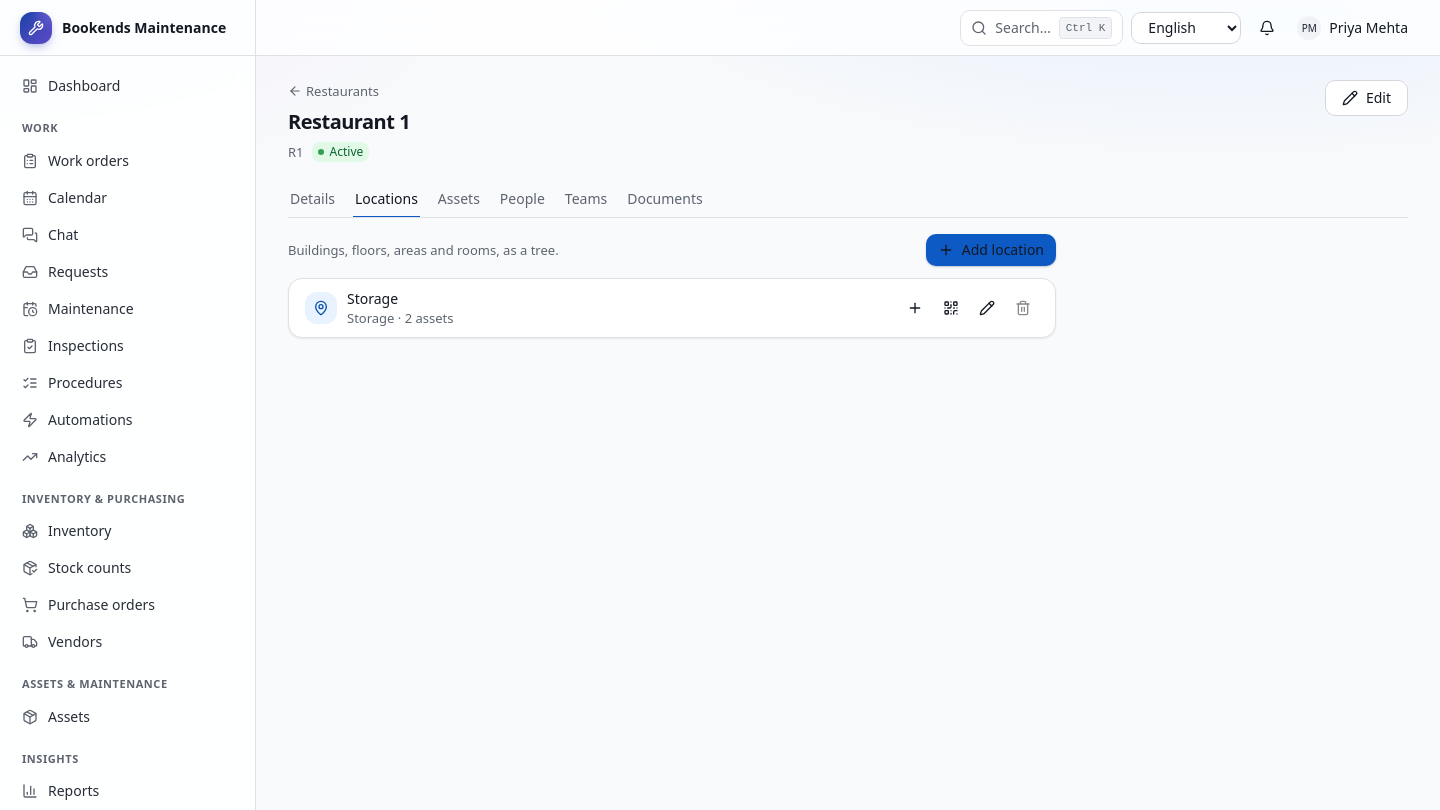
Test: restaurant page › locations: list with asset counts, archive blocked while in use, add a new one
This screenshot has width=1440, height=810.
Check: the text "Storage" is shown, box [347,289,398,308]
Check: the text "Storage · 2 assets" is shown, box [347,309,454,327]
Click the button "Add location" at (991, 250), box [926,234,1056,266]
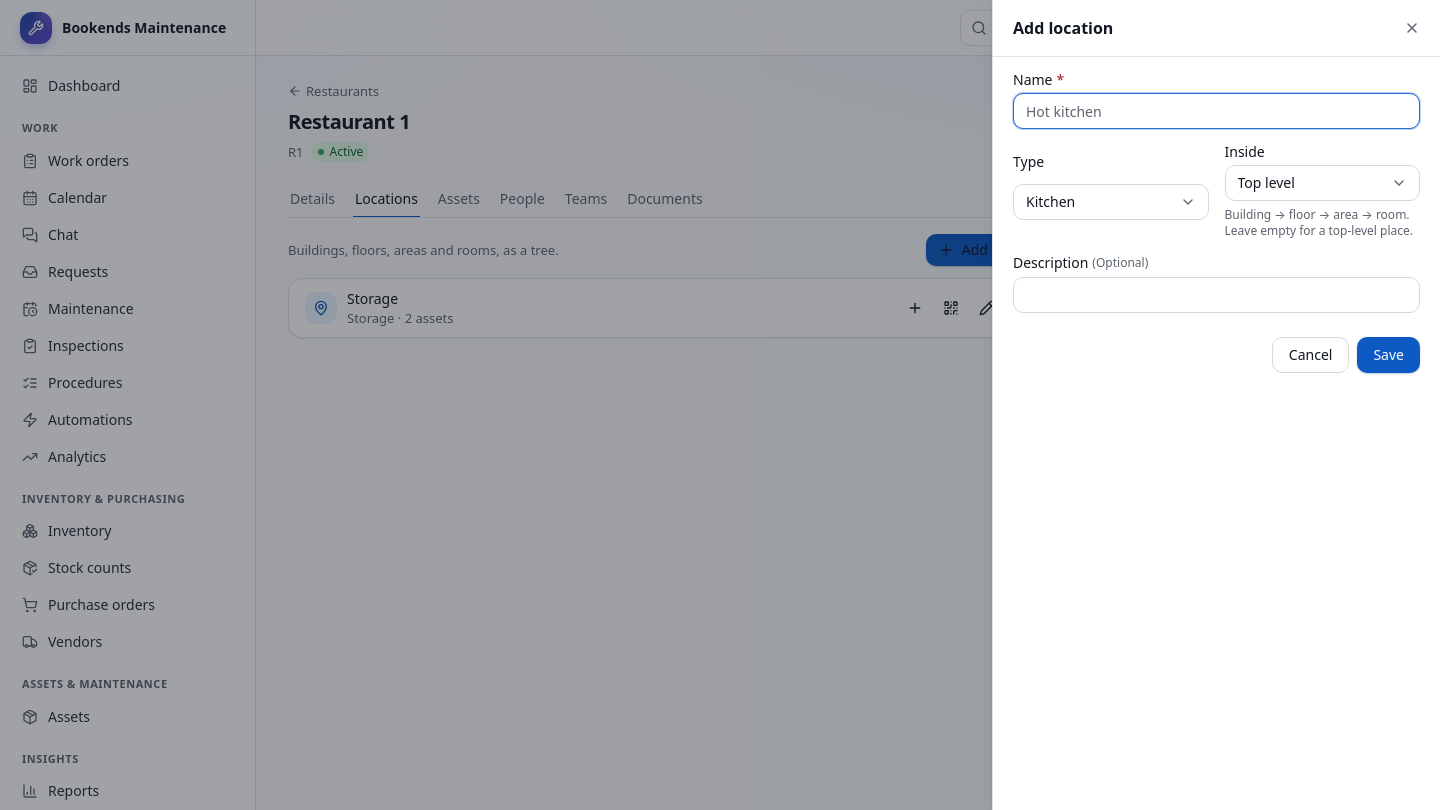
Type "Bar counter" into the field labelled "Name *" at (1216, 111), box [1013,93,1420,129]
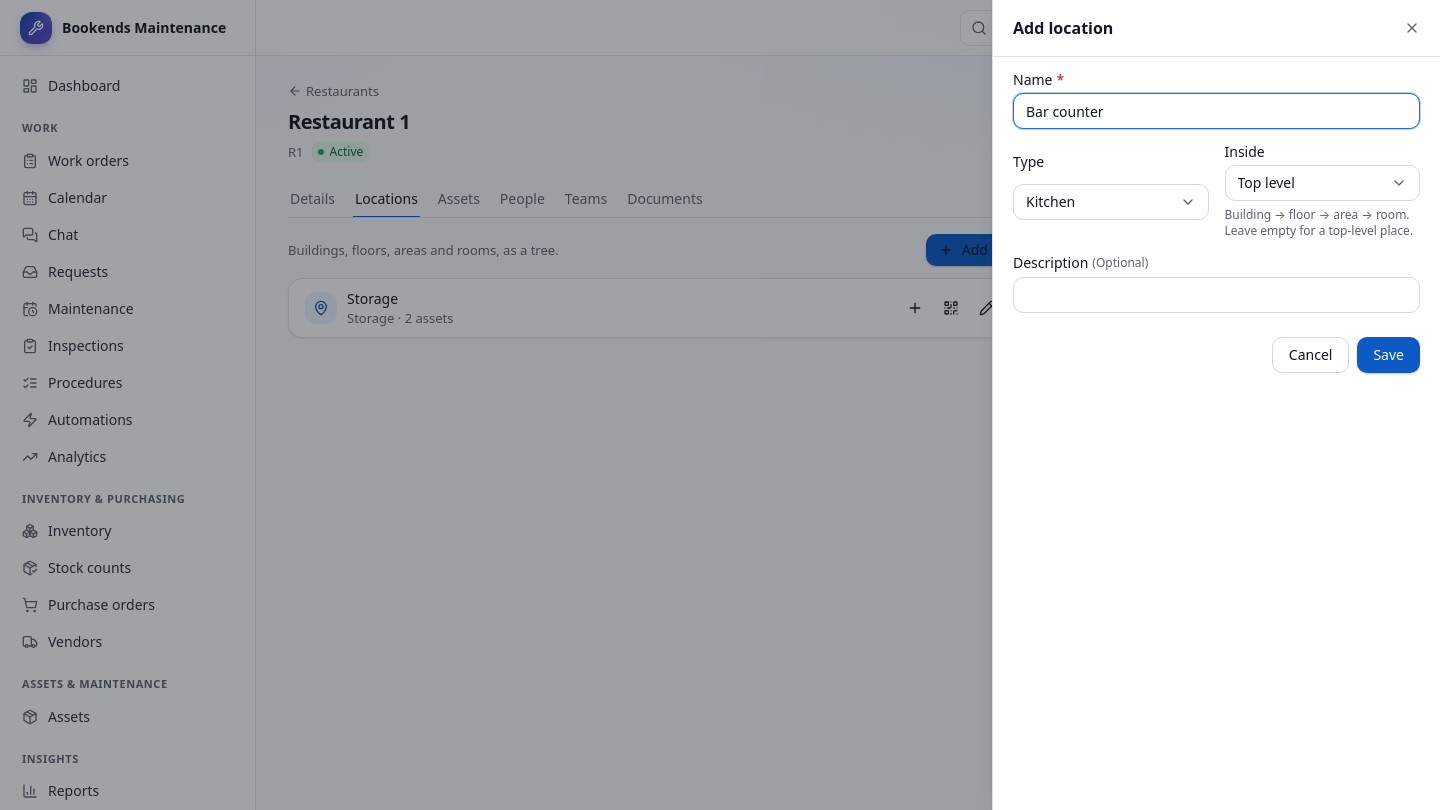
Click the dropdown named "Type" at (1111, 202), box [1013,184,1208,220]
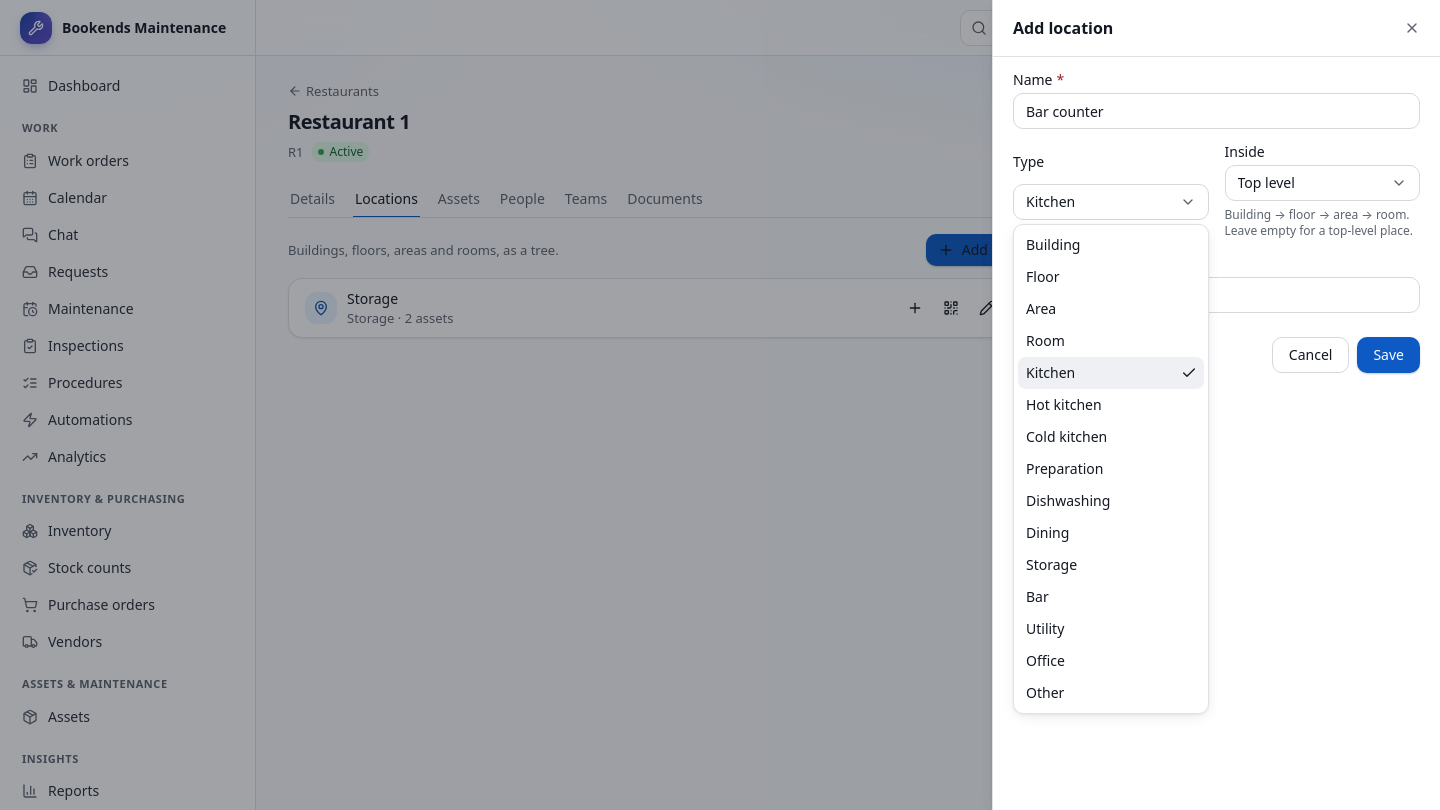
Click the option "Bar" at (1037, 596), box [1026,587,1049,606]
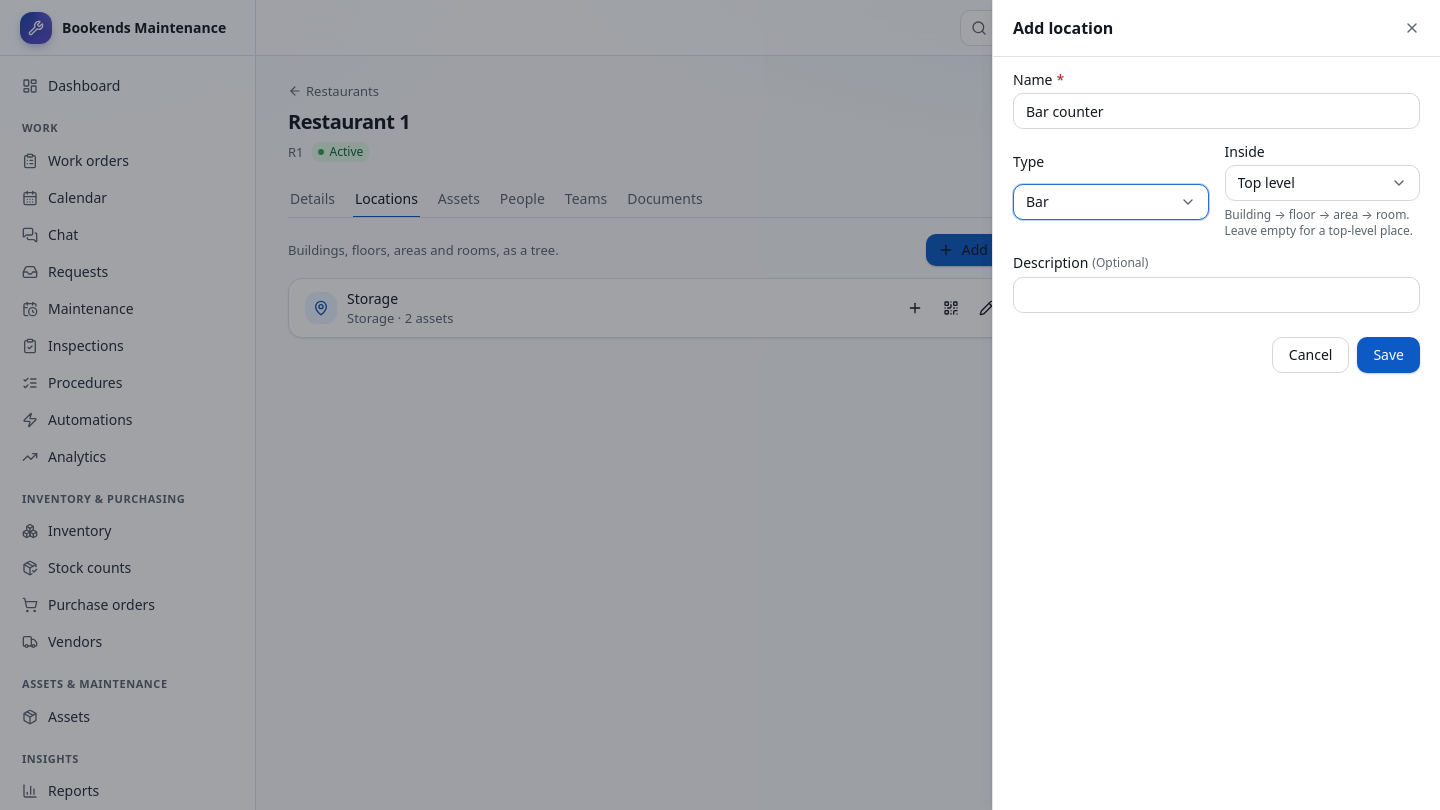
Click the button "Save" at (1389, 355), box [1357,337,1420,373]
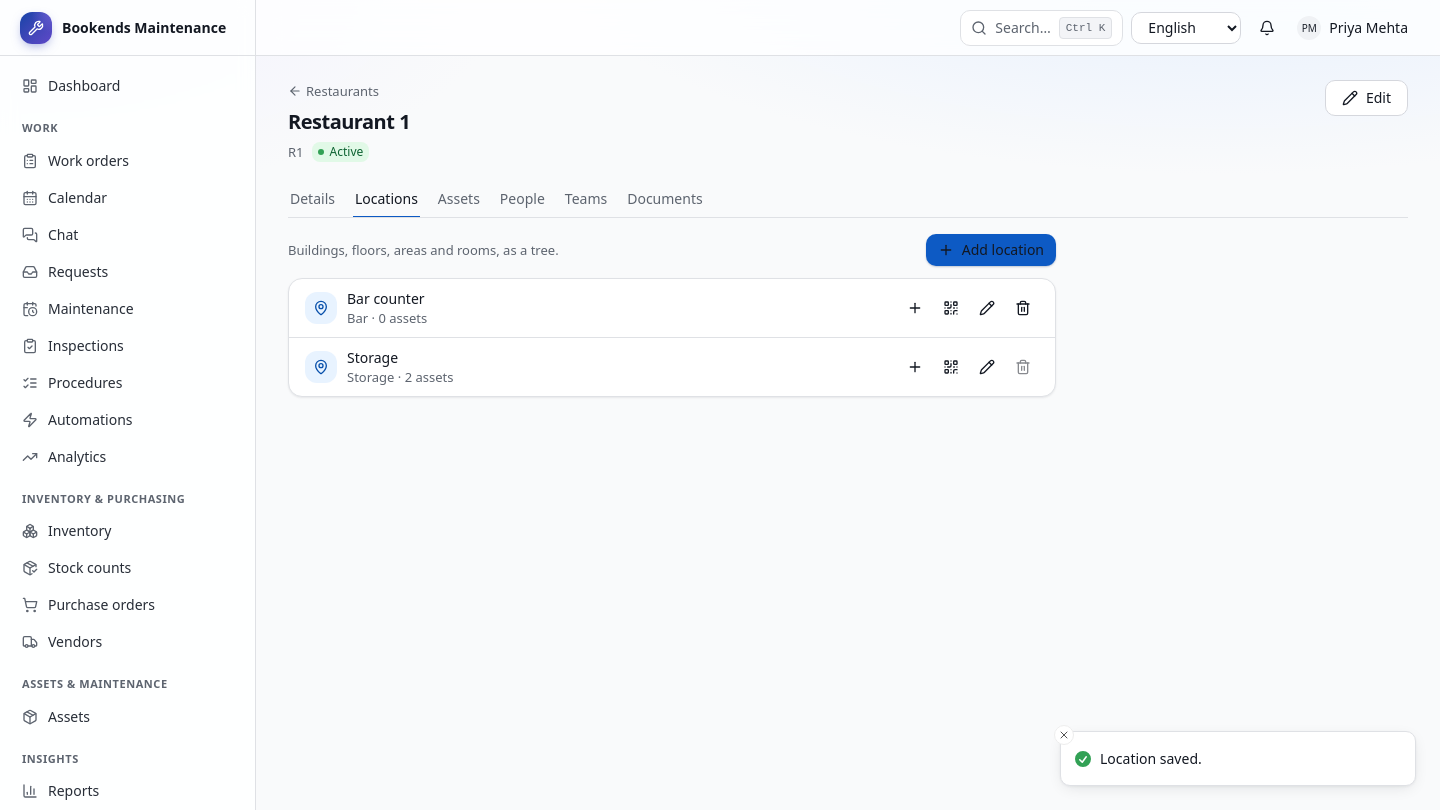
Check: the text "Bar counter" is shown, box [347,289,427,309]
